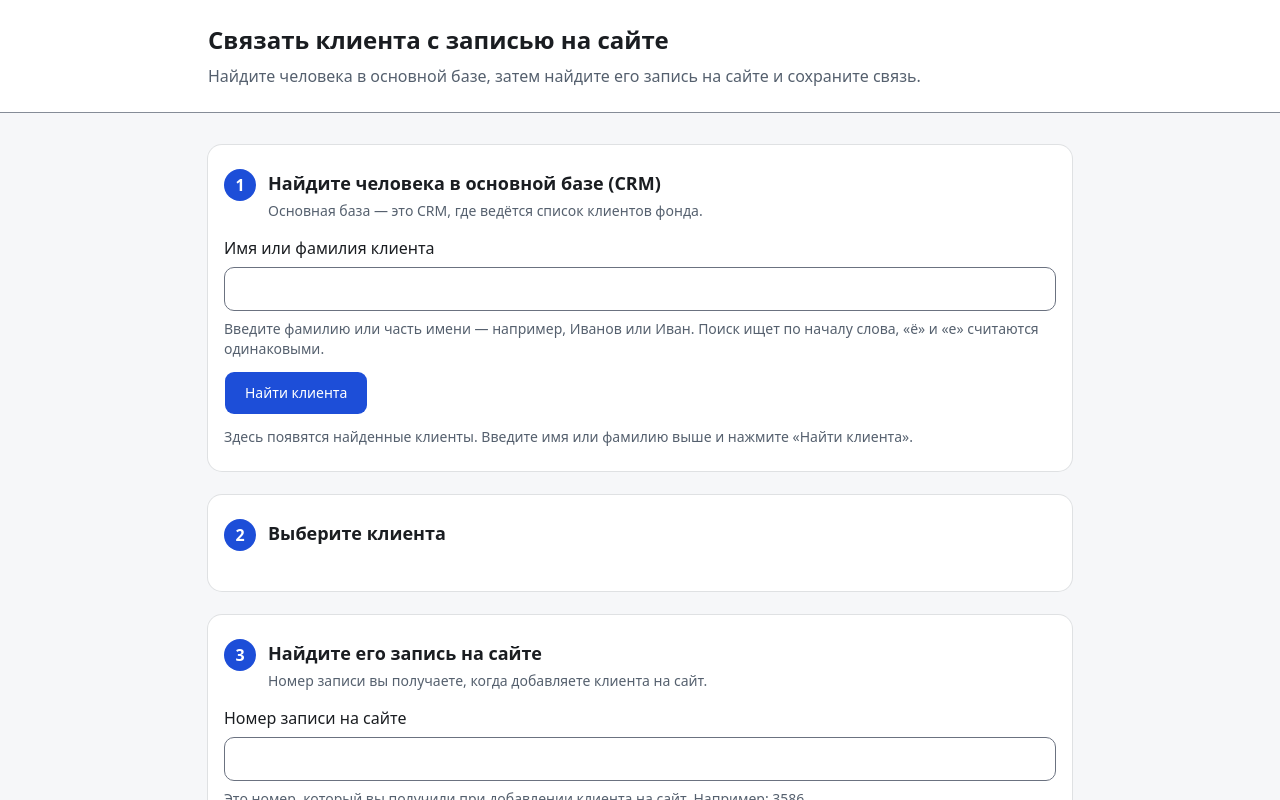
Test: управление фокусом после выбора клиента › после «Изменить выбор» фокус переходит к списку клиентов
Type "Иванов" into the field labelled "Имя или фамилия клиента" at (640, 289), box [224, 267, 1056, 311]
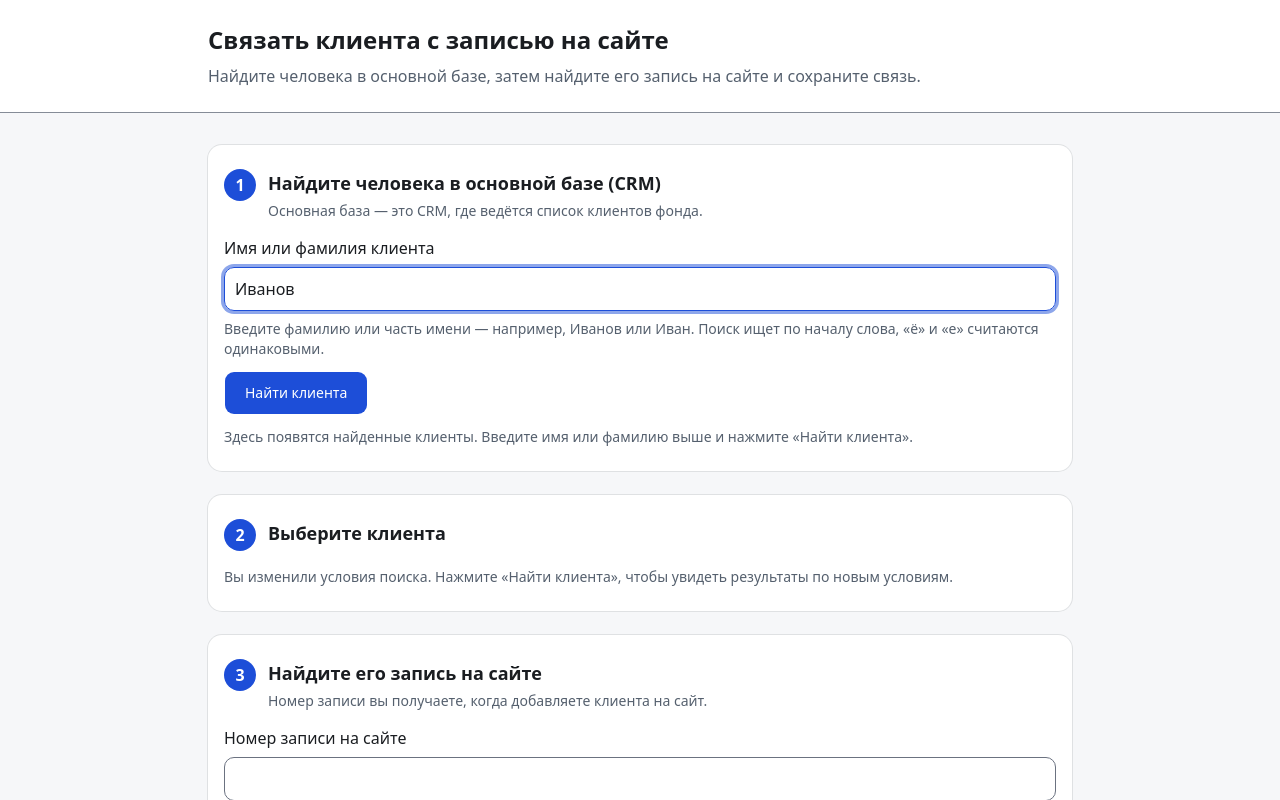
Click the button "Найти клиента" at (296, 393), box [224, 371, 368, 415]
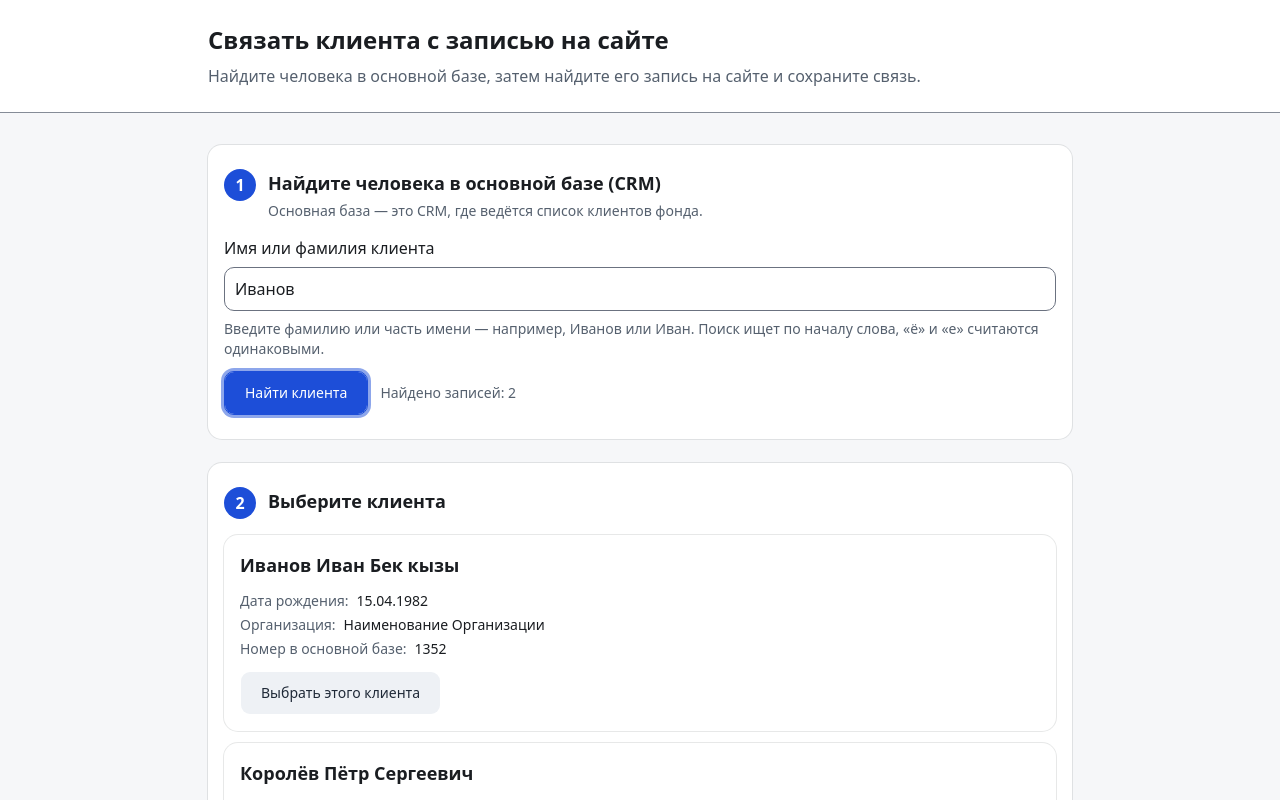
Click the button "Выбрать этого клиента" at (341, 693), box [240, 671, 441, 715]
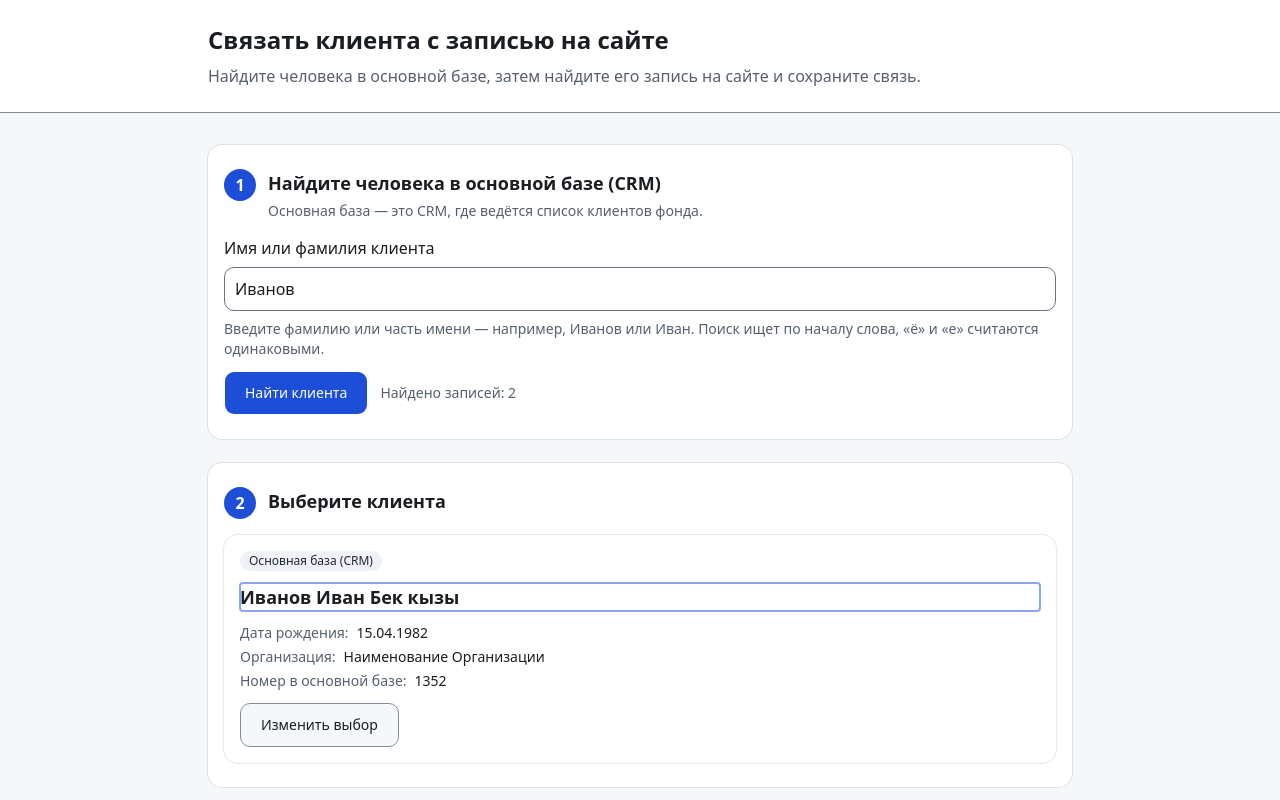
Click the button "Изменить выбор" at (319, 725), box [240, 703, 399, 747]
(page scrolled)
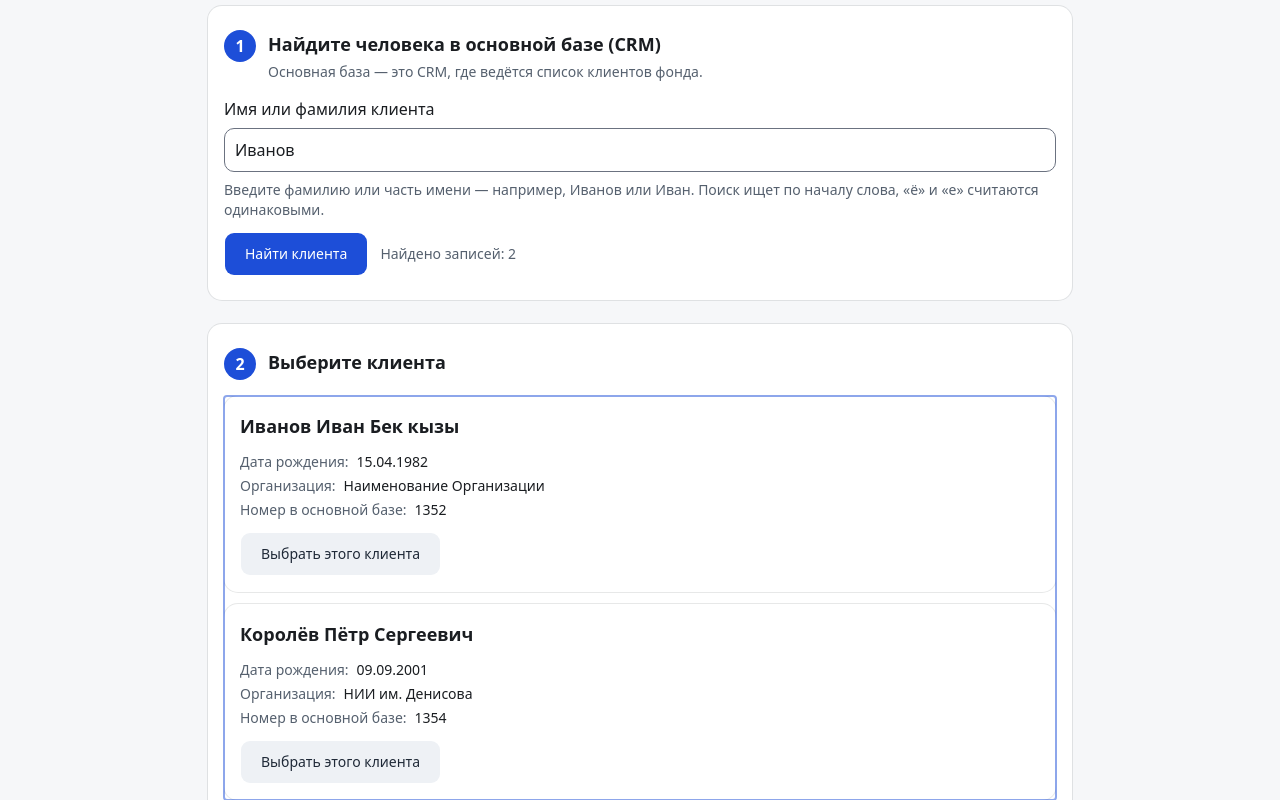
Result: the number of buttons "Выбрать этого клиента" is 2 at [240, 532, 441, 576]; [240, 740, 441, 784]
